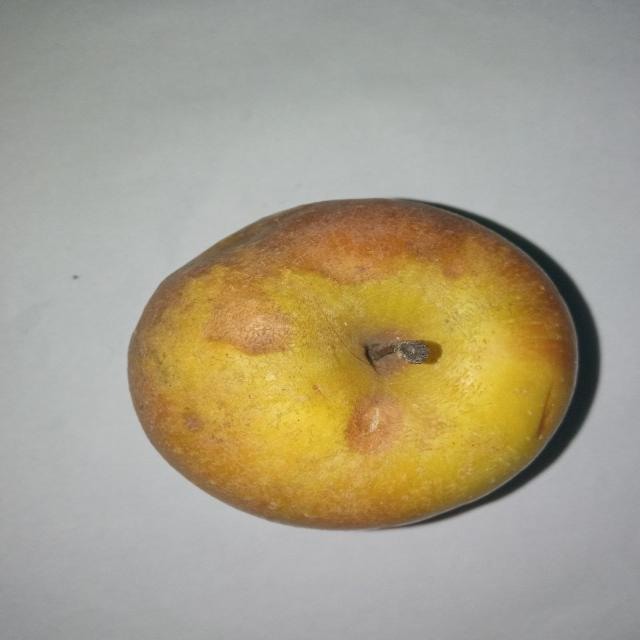rotten_apple: (129, 199, 582, 529)
